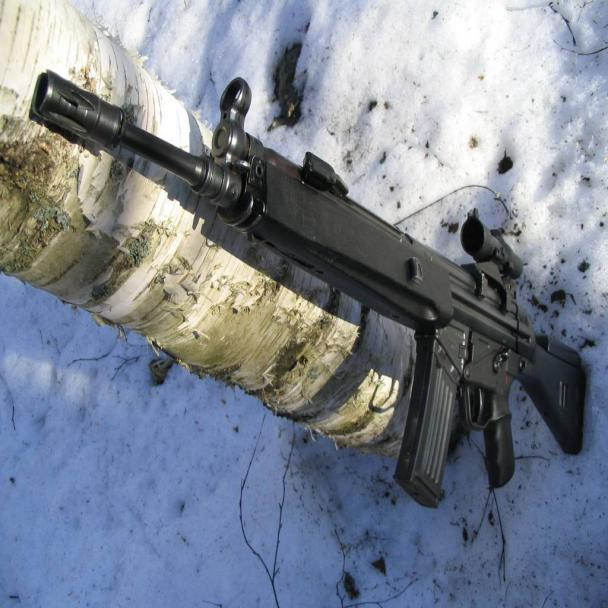Gun: (28, 59, 607, 504)
